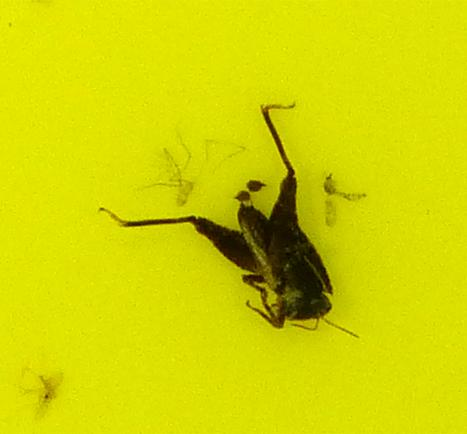Nematocera: (323, 171, 367, 226)
Orthoptera: (100, 100, 344, 334)
